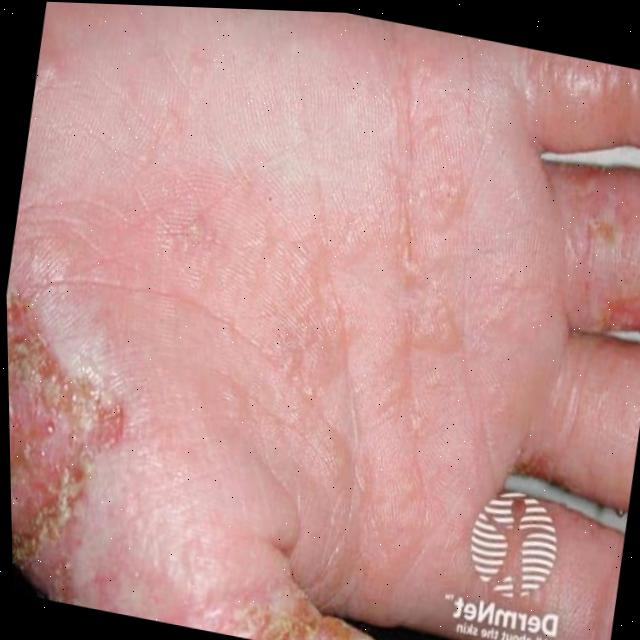Eczema: (2, 73, 503, 640), (569, 211, 640, 339)
